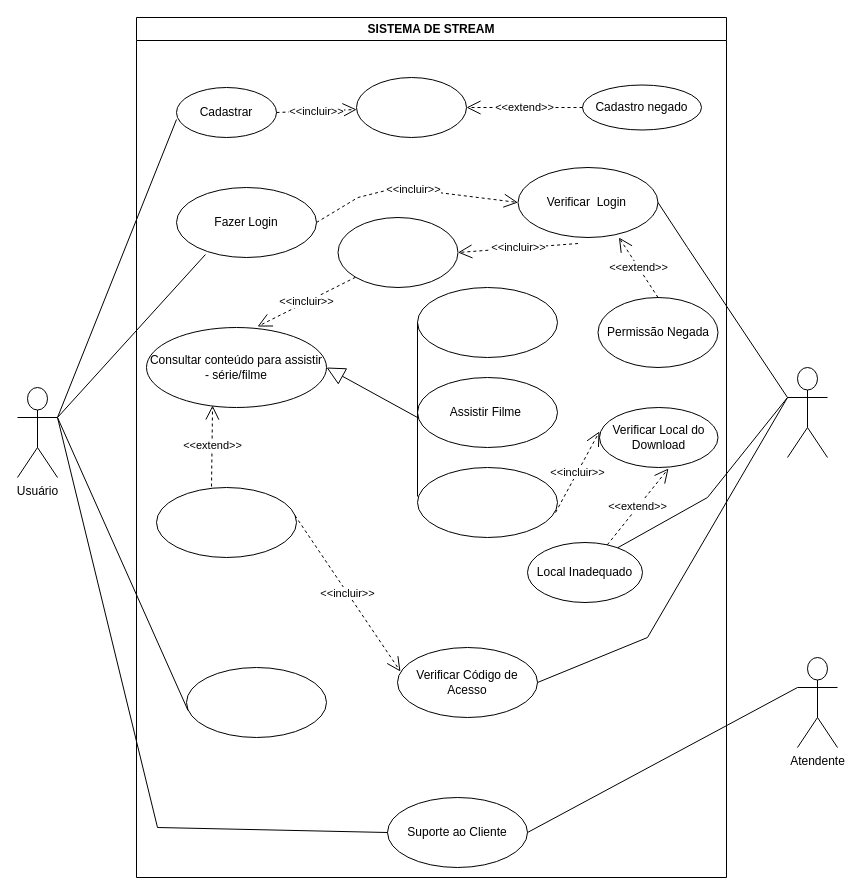
The diagram is 862 pixels wide and 895 high, and some of its shapes have lost their labels. The centre of each missing label's shape, as x and y in pixels:
"Acessar conta" belongs at point 397,252.
"Assistir Conteúdo para Maiores" belongs at point 226,522.
"Assistir Série" belongs at point 487,322.
"BD" belongs at point 807,412.
"Favoritar Conteúdo" belongs at point 256,702.
"Fazer Download de Conteúdo" belongs at point 487,502.
"Verificar cadastro" belongs at point 411,107.
